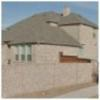chimneys: (62, 4, 70, 18)
